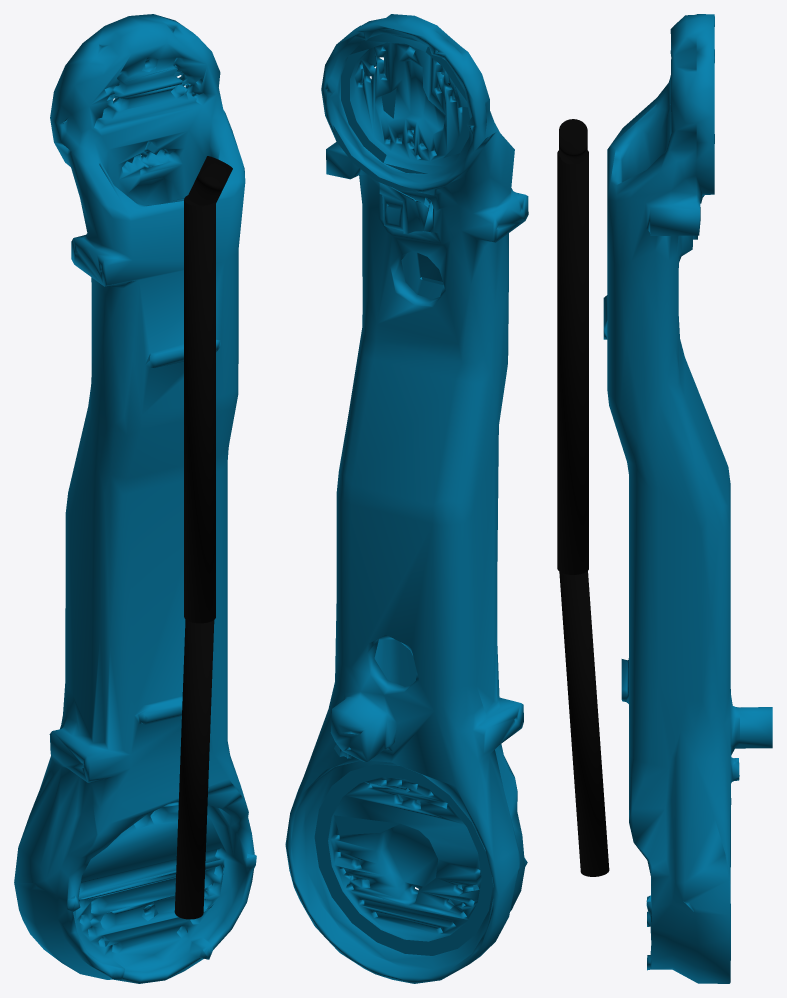
3 views of the same model, side by side, from view 1: azimuth 30°, elevation 25°; view 2: azimuth 150°, elevation 25°; view 3: azimuth 270°, elevation 25° (orthographic).
Parts seen in each view (by area): view 1: mh50-35_lk2, link2, link2.001, link2.002; view 2: mh50-35_lk2; view 3: mh50-35_lk2, link2, link2.001, link2.002.
Part boxes in pixels (box(x1,y1,x2,y2)): mh50-35_lk2: box(14, 14, 256, 983); link2: box(184, 195, 215, 623); link2.001: box(174, 619, 214, 919); link2.002: box(187, 156, 232, 205); mh50-35_lk2: box(285, 14, 528, 983); mh50-35_lk2: box(603, 14, 772, 983); link2: box(557, 150, 588, 574); link2.001: box(559, 571, 609, 876); link2.002: box(559, 119, 587, 164).
Bounding box in the file's own units: 0.3407 × 0.2964 × 1.45.
